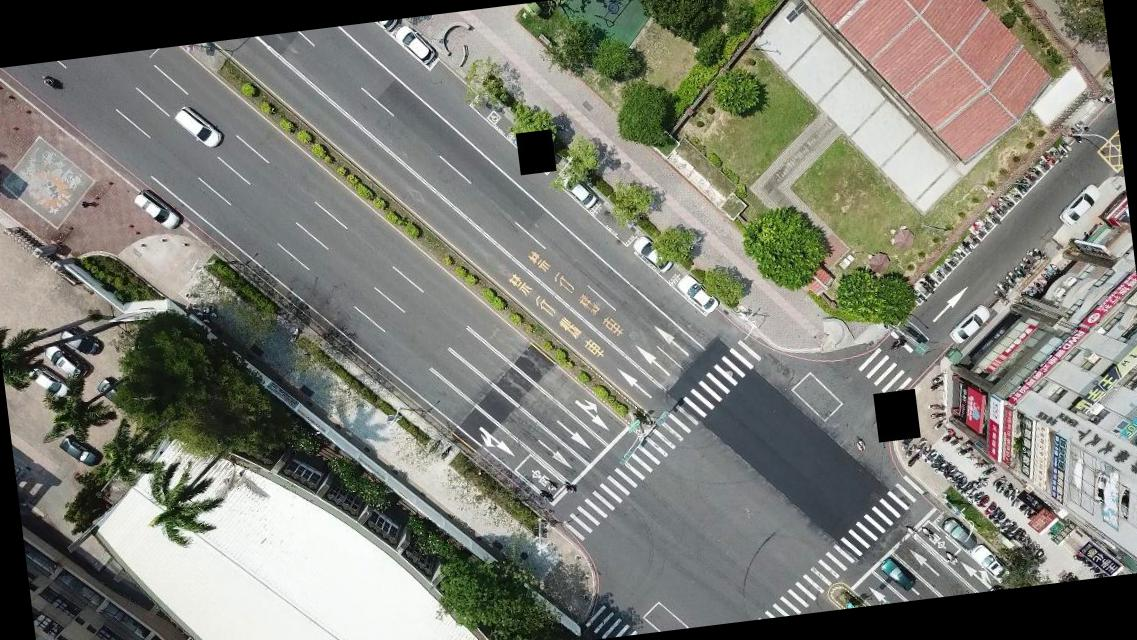vehicle: (172, 102, 225, 152), (136, 185, 183, 232), (1056, 182, 1102, 228), (676, 271, 719, 315), (946, 302, 992, 342), (632, 233, 673, 276), (59, 430, 102, 470), (29, 360, 72, 400), (394, 24, 434, 67), (42, 339, 86, 378), (941, 512, 978, 555), (970, 540, 1006, 582), (94, 373, 132, 410), (63, 322, 102, 358), (560, 170, 595, 210), (879, 556, 916, 592)
